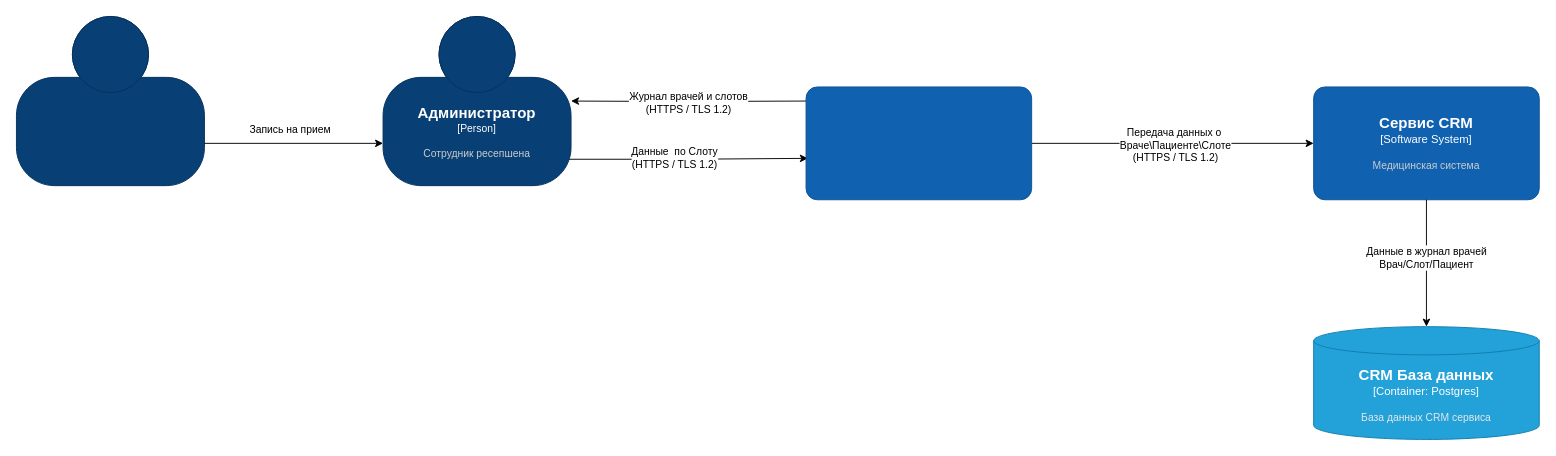
This 1556x456 diagram has some shape labels left out. Here are the shapes that lost their labels. From the top down, the centre of each, then its label:
At point (110, 101): "Patient [Person] Пациент".
At point (918, 143): "Web приложение [Software System] Web приложение - доступ к CRM системе".
